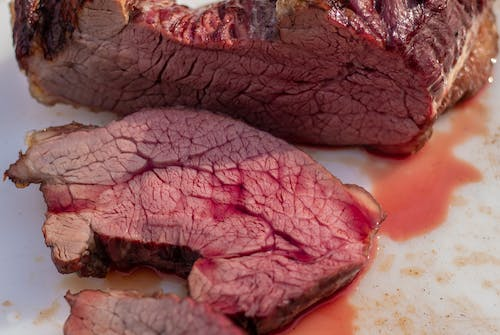blood: (55, 232, 379, 335), (359, 104, 494, 246), (356, 0, 362, 4)
